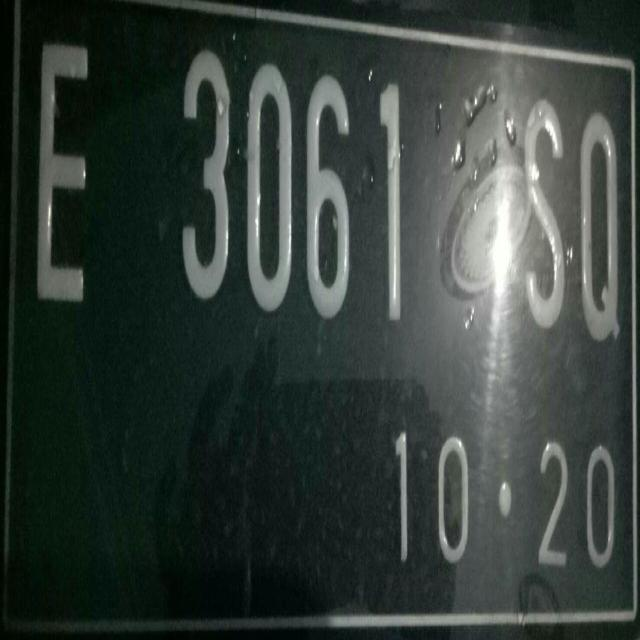plate: (11, 1, 637, 624)
